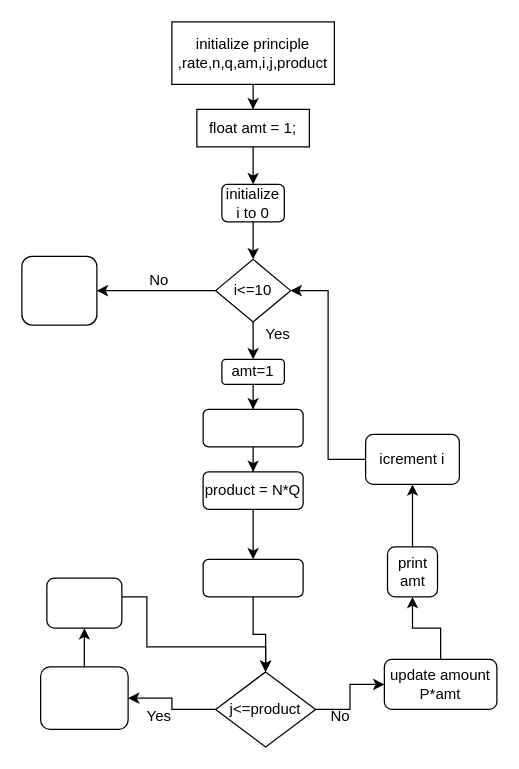
The diagram is 519 pixels wide and 769 high, and some of its shapes have lost their labels. Each missing label, with the centre of its shape:
amt calculation: the point at 83,697
getch and EXIT: the point at 59,290
increment j: the point at 84,602
initialize j=1: the point at 252,577
scan P,R,N,Q: the point at 252,427
